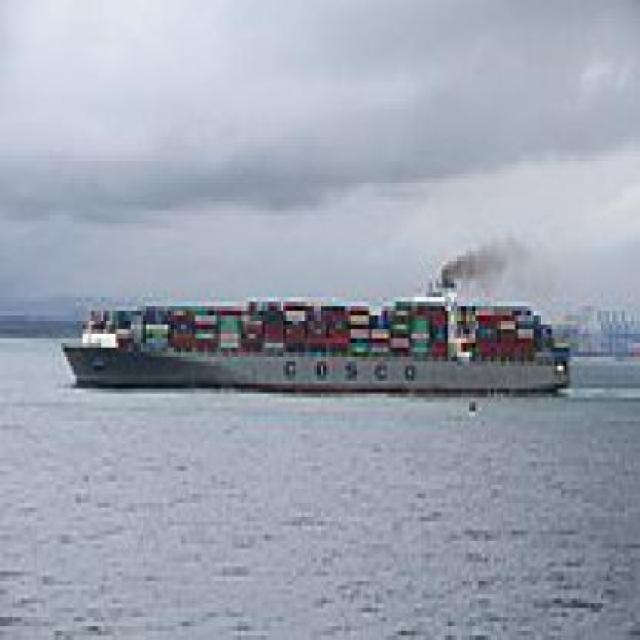container: (50, 253, 577, 422)
